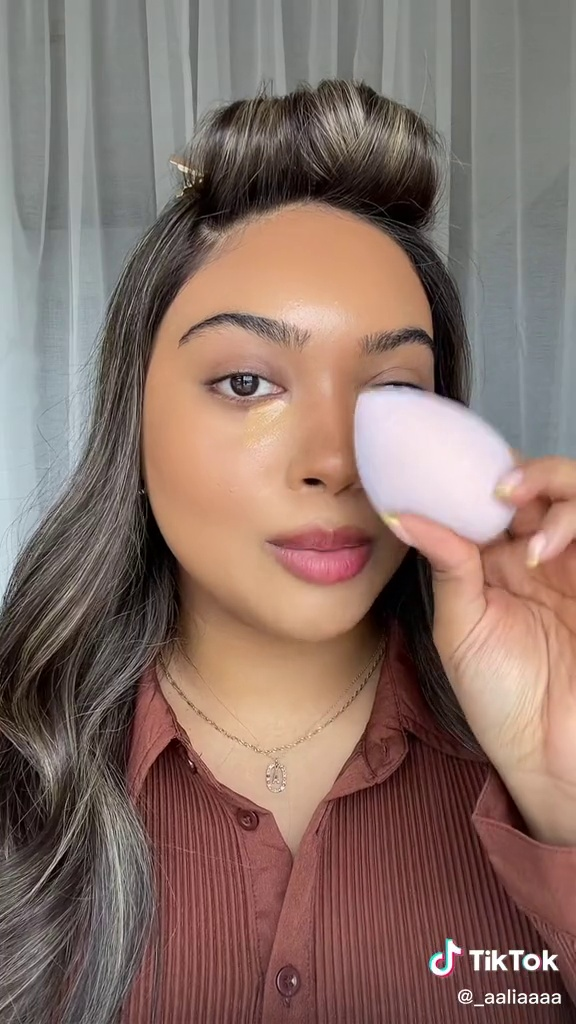train' :'yolo_data/train/images',: (345, 379, 533, 553)
